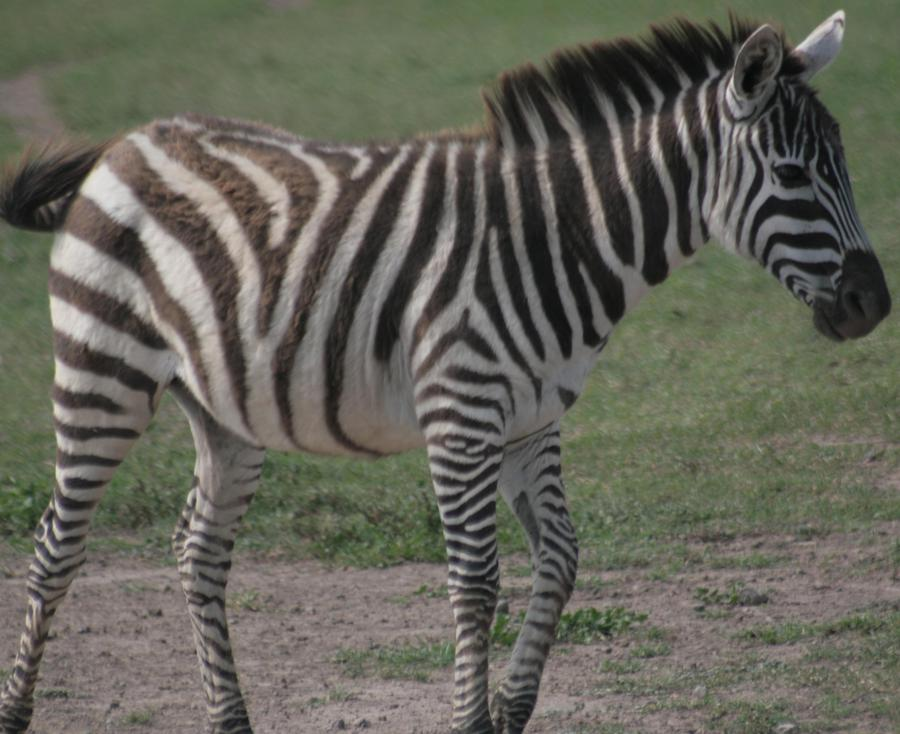zebra_plains: (54, 139, 561, 405)
